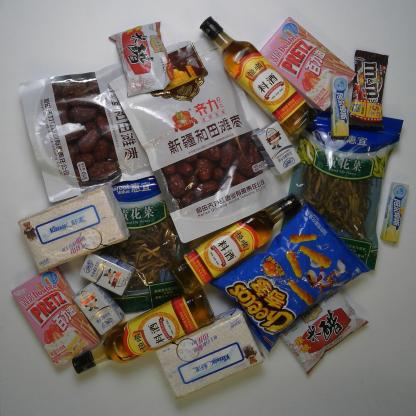Candy: (379, 182, 410, 244), (329, 75, 351, 137)
Chocolate: (348, 50, 389, 126)
Dessert: (258, 17, 357, 112), (11, 266, 101, 368)
Dried Food: (110, 37, 292, 244), (278, 109, 404, 272), (18, 63, 152, 204), (100, 176, 183, 312)
Milk: (72, 281, 127, 336), (252, 120, 302, 175), (79, 252, 135, 296)
Puffed Food: (212, 204, 371, 353)
Seasoner: (198, 16, 319, 136), (170, 192, 301, 295), (71, 287, 216, 374), (280, 290, 369, 375), (108, 21, 174, 97)
Tissue: (18, 184, 131, 275), (157, 310, 266, 402)
